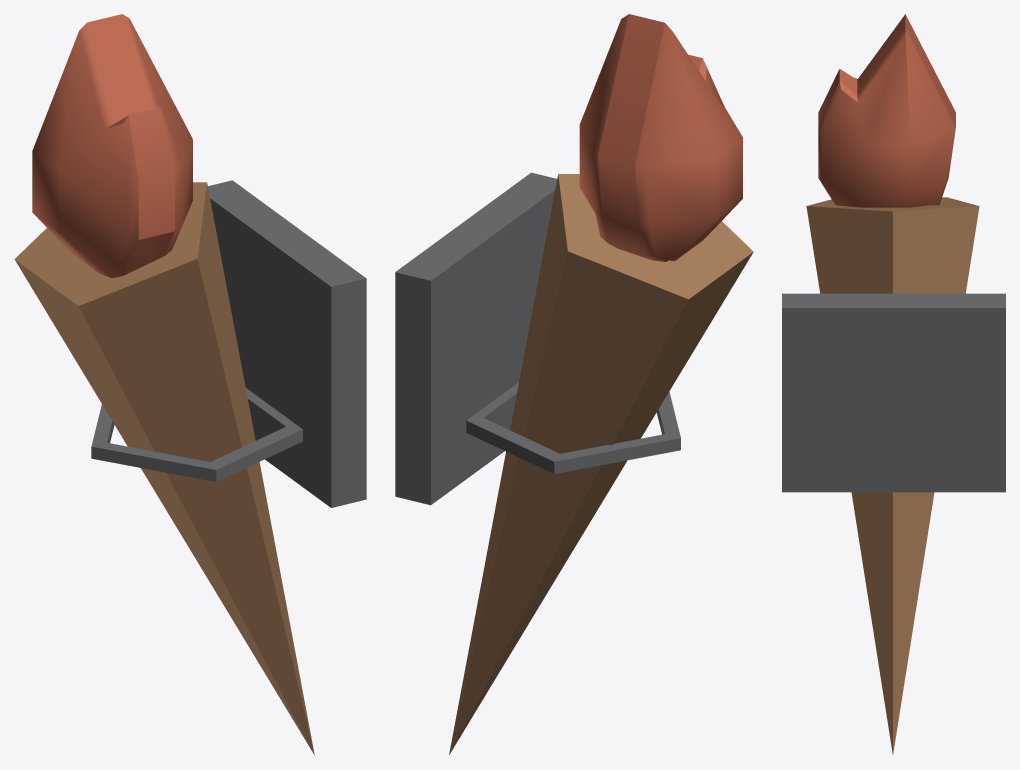
Rendered from Antorcha.fbx.
3 views of the same model, side by side, from view 1: azimuth 30°, elevation 25°; view 2: azimuth 150°, elevation 25°; view 3: azimuth 270°, elevation 25° (orthographic). The views are drawn at different scales.
Parts seen in each view (by area): view 1: Antorcha; view 2: Antorcha; view 3: Antorcha.
Part boxes in pixels (bbox=[...]): Antorcha: bbox=[14, 14, 366, 755]; Antorcha: bbox=[395, 14, 753, 754]; Antorcha: bbox=[782, 14, 1005, 754].
Bounding box in the file's own units: 0.8 × 2.2 × 0.6825.
